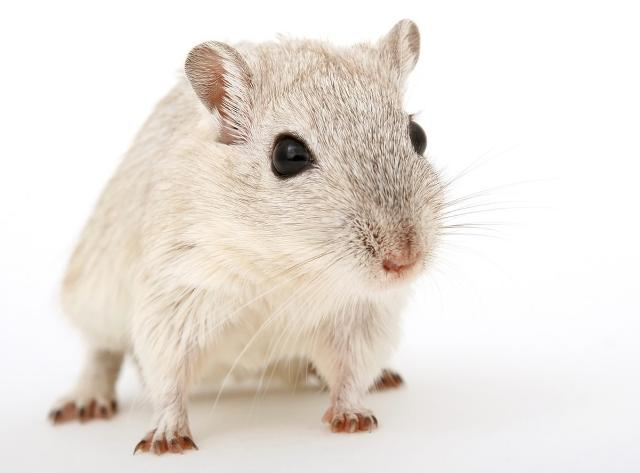rat: (38, 9, 472, 461)
